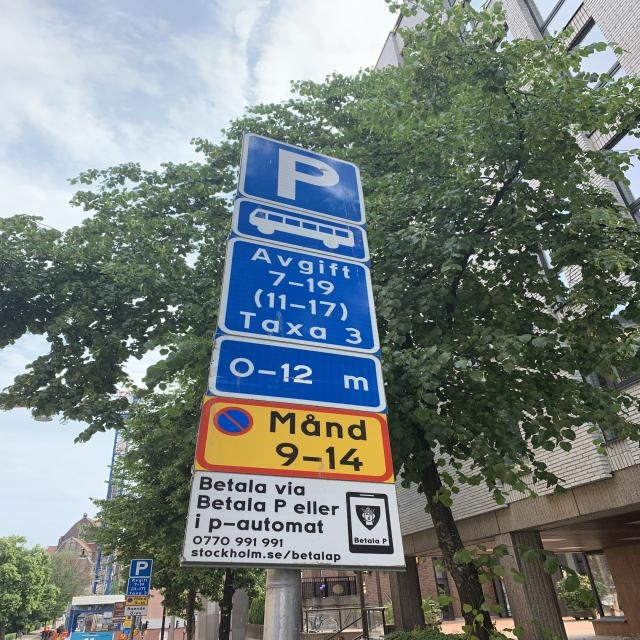P-skylt: (236, 128, 374, 228)
